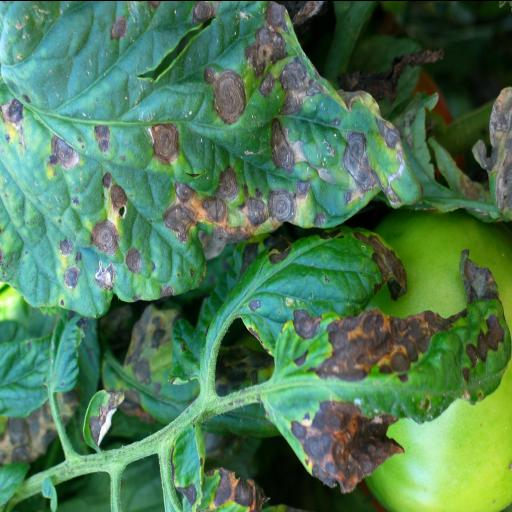disease_tomato: (6, 18, 414, 320), (262, 312, 505, 485), (237, 230, 409, 353)
